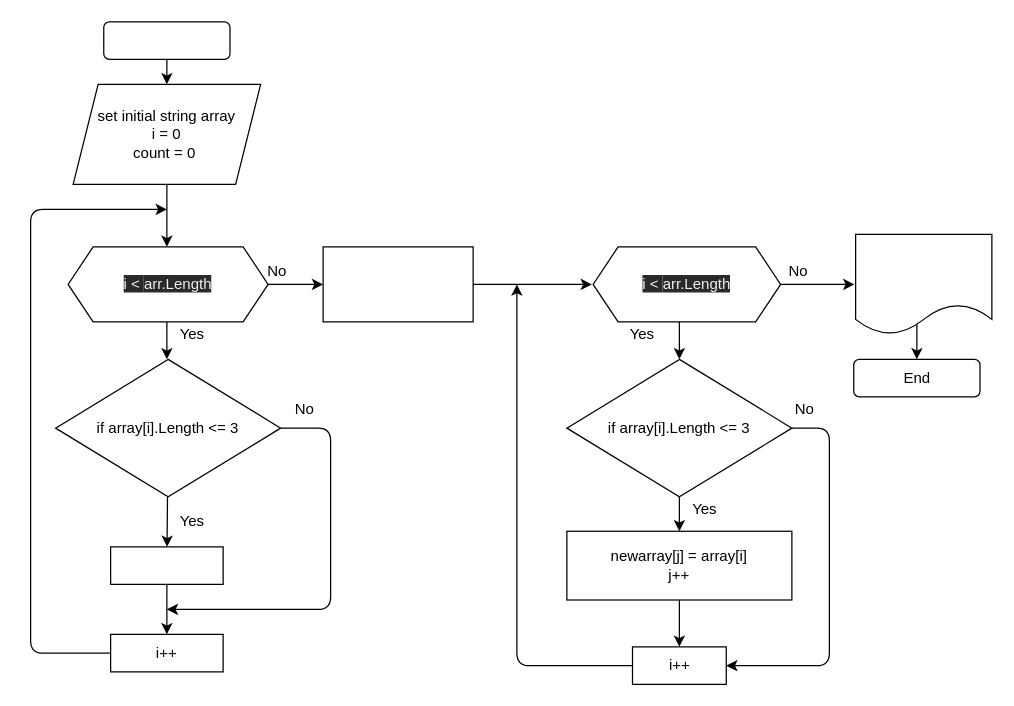
Some shapes in this 1014 by 706 pixel diagram are drawn without their labels. Each missing label, with the box of its shape:
count++: (109, 546, 223, 584)
Print initial array Print result array: (854, 233, 992, 334)
Start: (102, 21, 230, 59)
string newarray[ ] = new string [count] i = 0 j = 0: (322, 246, 473, 322)
